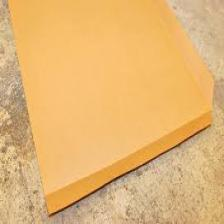cardboard: (12, 0, 213, 215)
